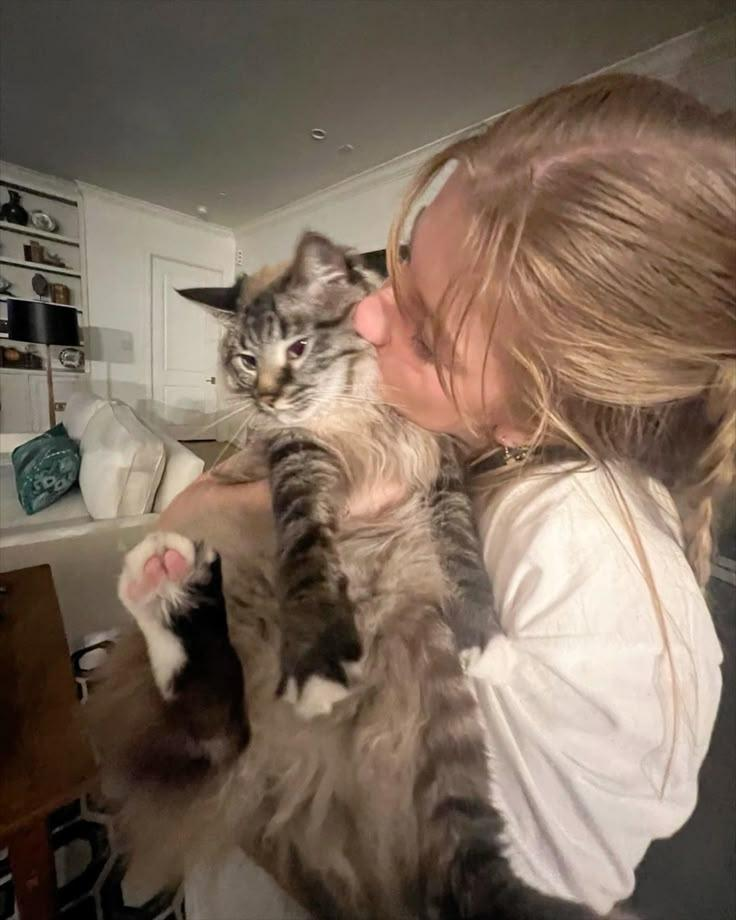kedo: (120, 227, 370, 823)
